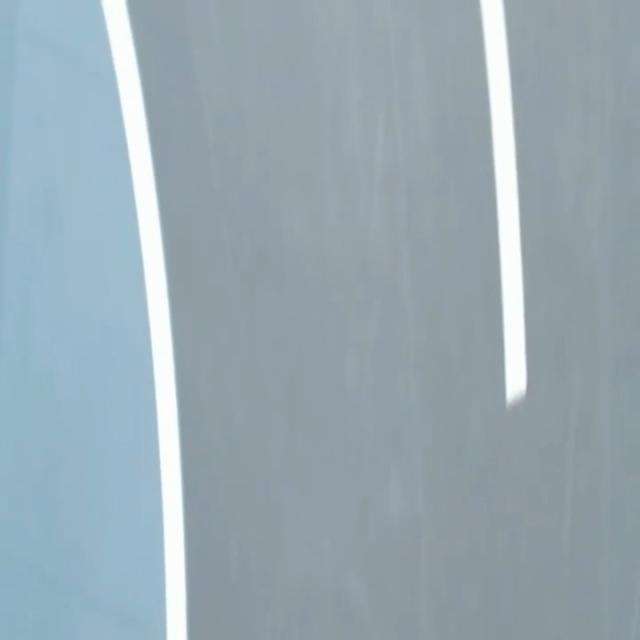center: (479, 0, 526, 406)
left: (101, 0, 187, 639)
